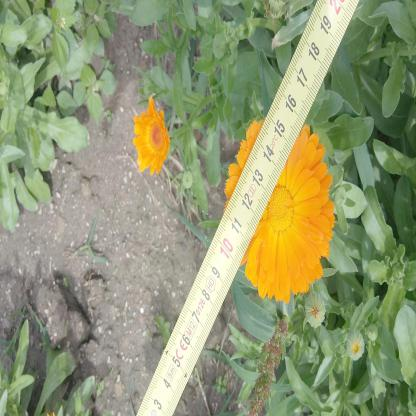marigold: (233, 120, 332, 296), (135, 112, 170, 171)
